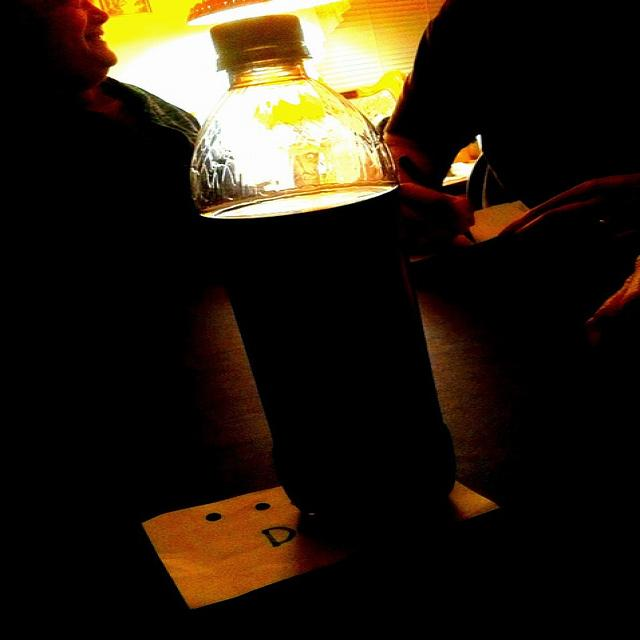Bottle: (131, 8, 495, 522)
